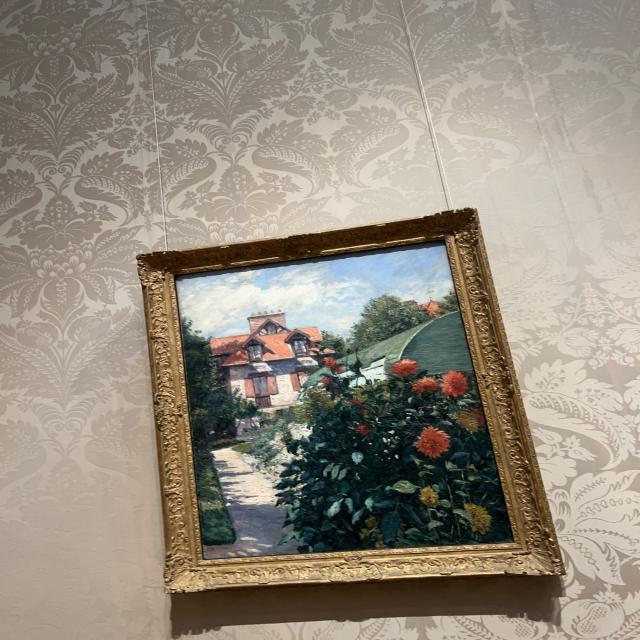summer: (176, 246, 508, 556)
